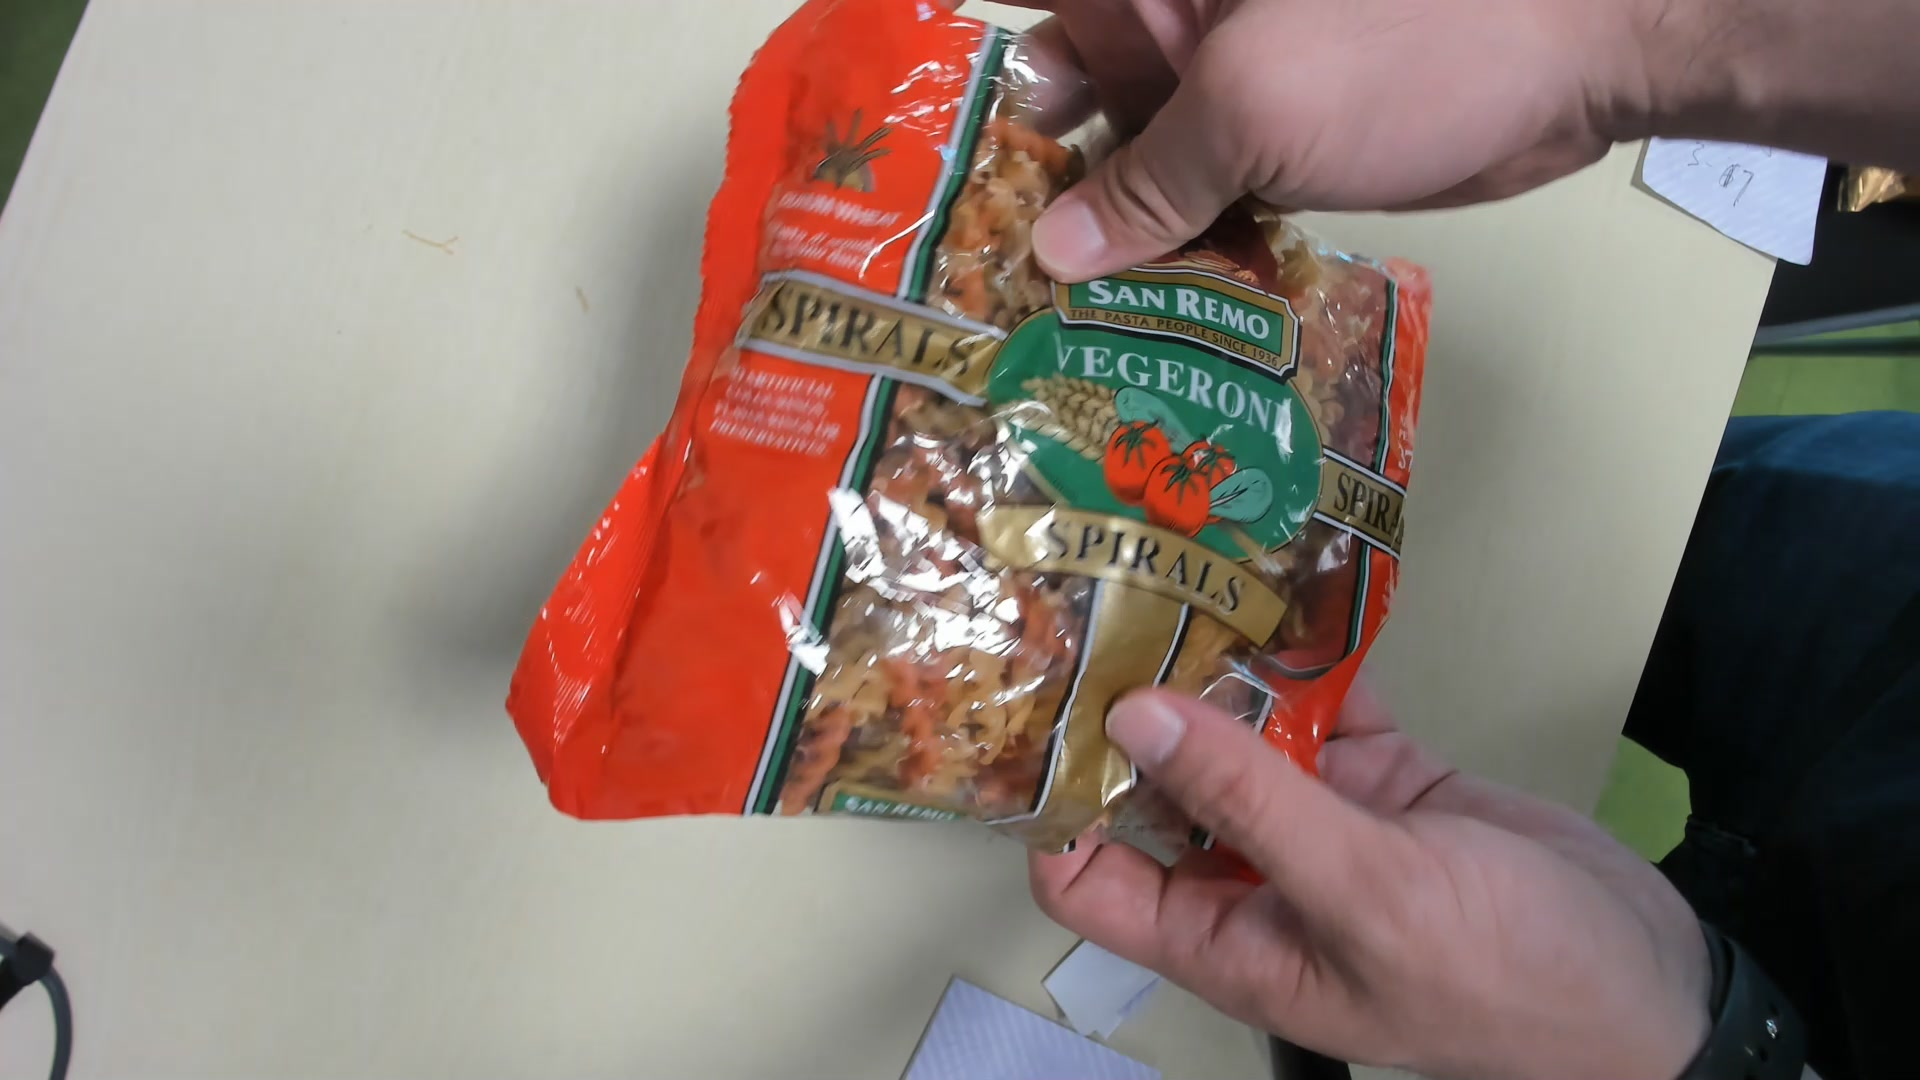Pasta_400-499g_Halal_NonHealthy: (509, 9, 1425, 862)
